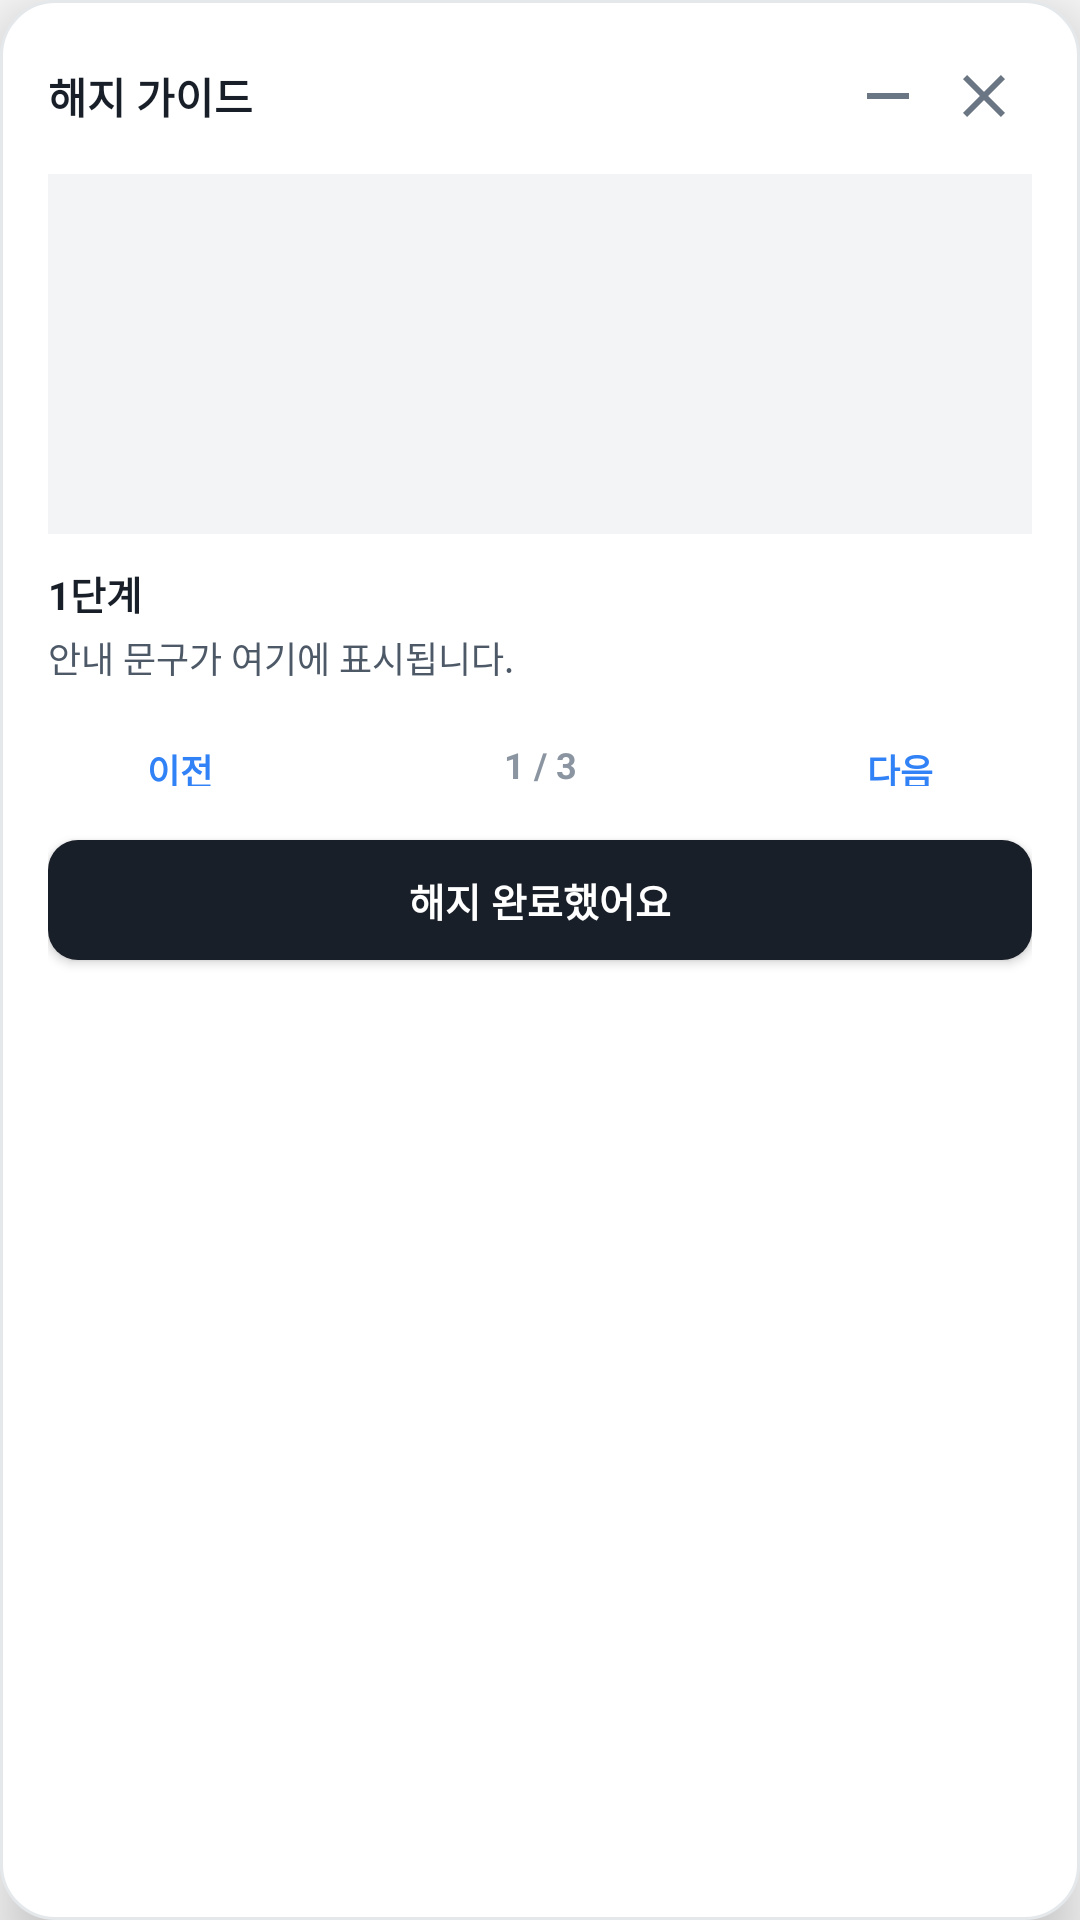

Icon bounding boxes for this 1080px x 1920px phone screenshot, format box(x1, y1, x2, y2):
닫기: box(963, 75, 1005, 117)
